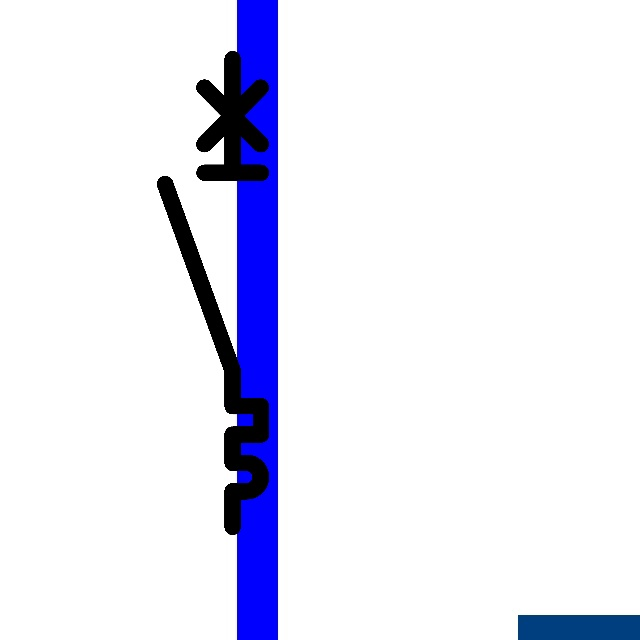interruptor_termomagnetico: (153, 47, 273, 539)
